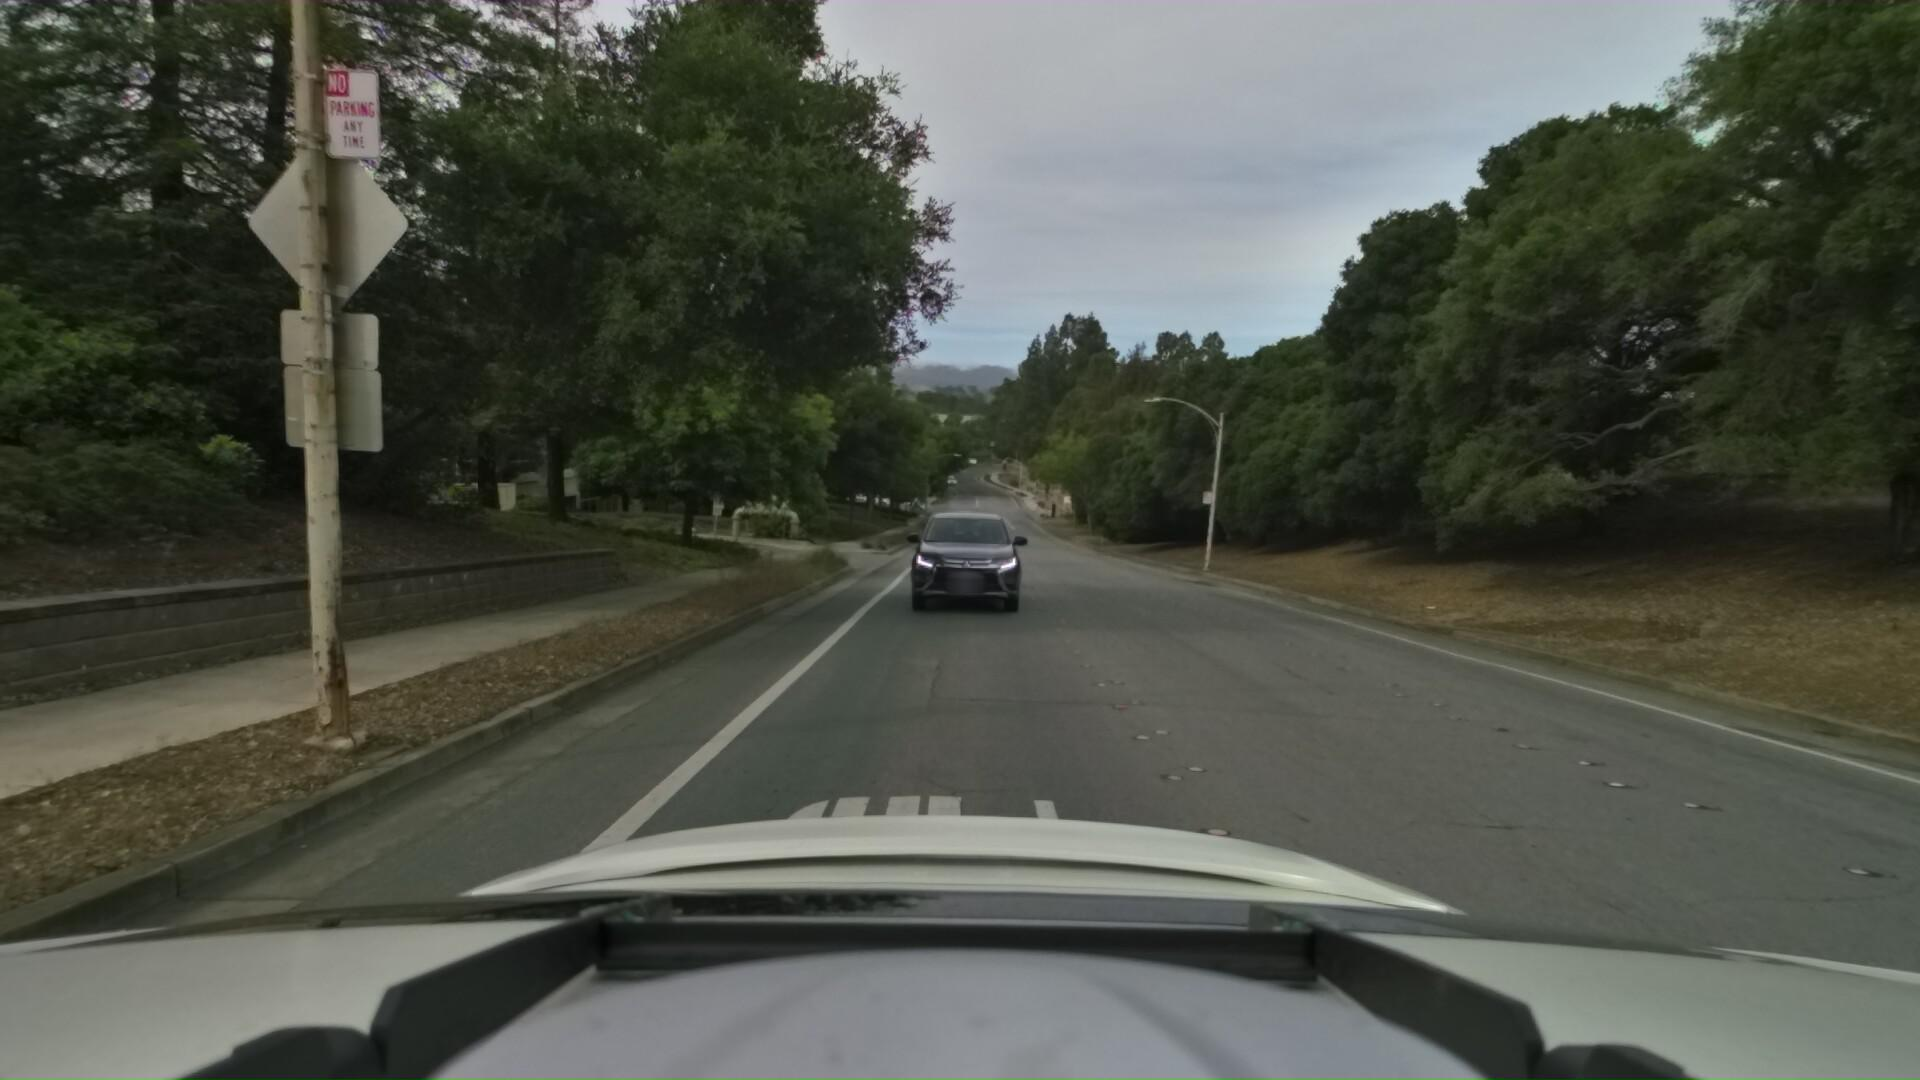car: (893, 489, 1027, 647)
